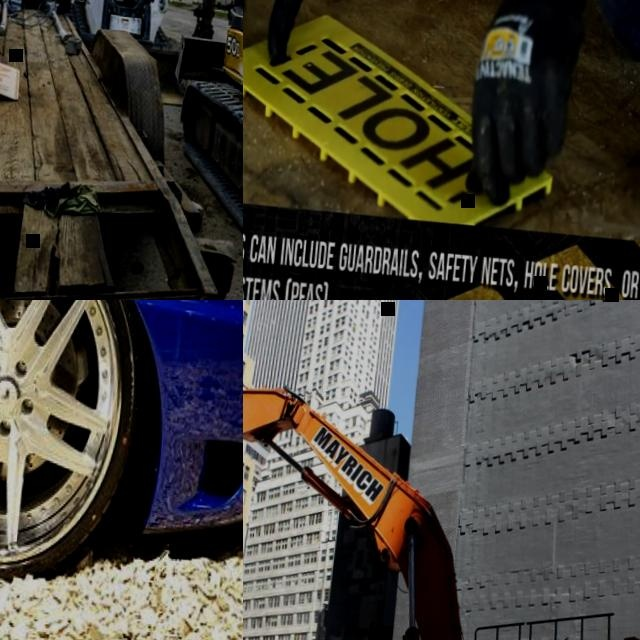Person: (243, 0, 640, 219)
machinery: (243, 370, 640, 640), (158, 0, 243, 296), (63, 0, 212, 106)
vehicle: (0, 300, 243, 618)
